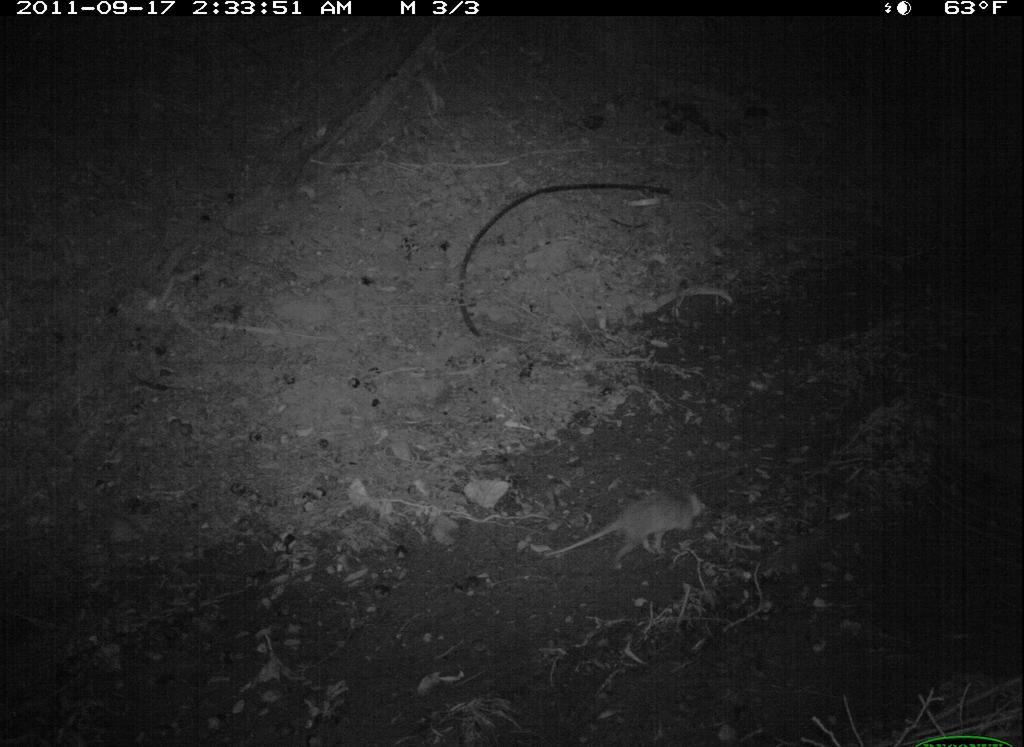opossum: (538, 474, 722, 585)
